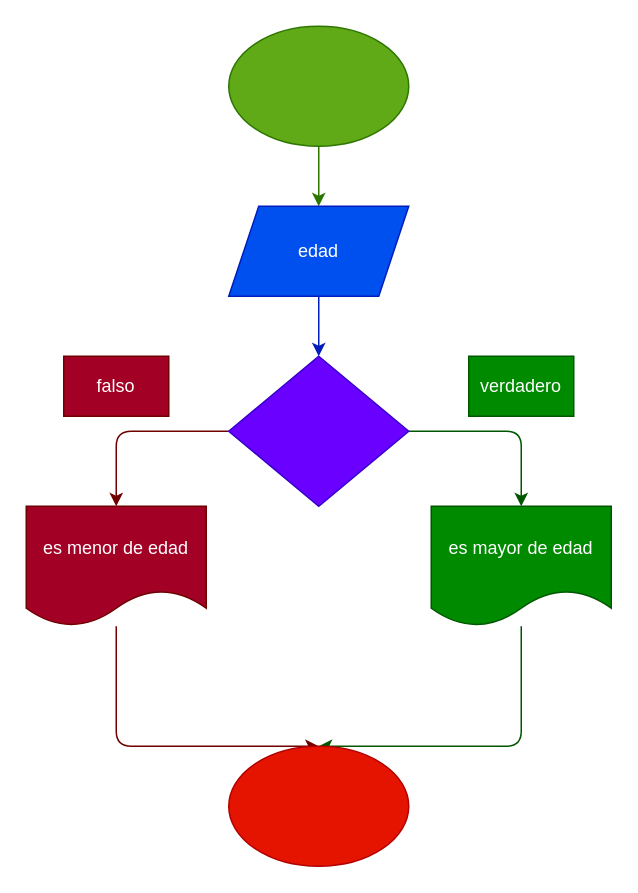
This 638x893 diagram has some shape labels left out. Here are the shapes that lost their labels. From the top down, the box of each, then its label:
(227, 25, 409, 146): inicio
(227, 355, 409, 506): edad>=18
